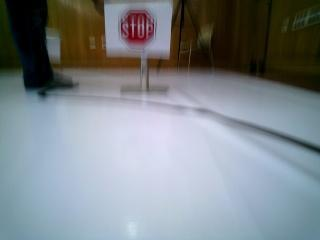stop: (107, 1, 168, 57)
